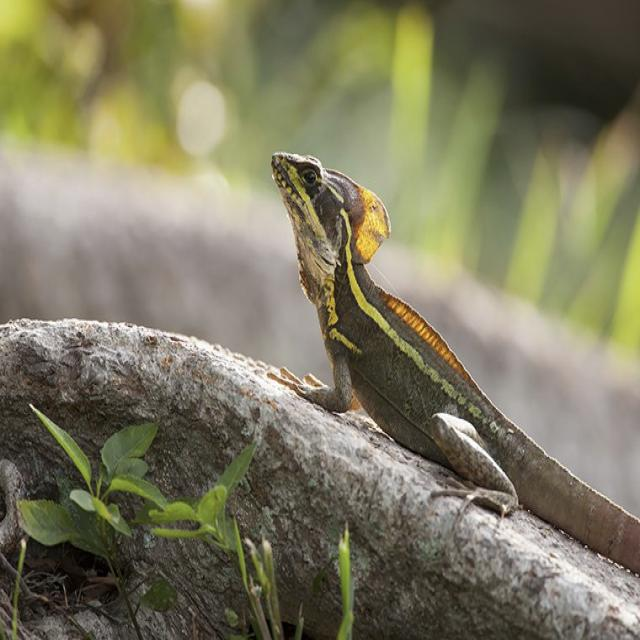lizard: (272, 151, 639, 573)
